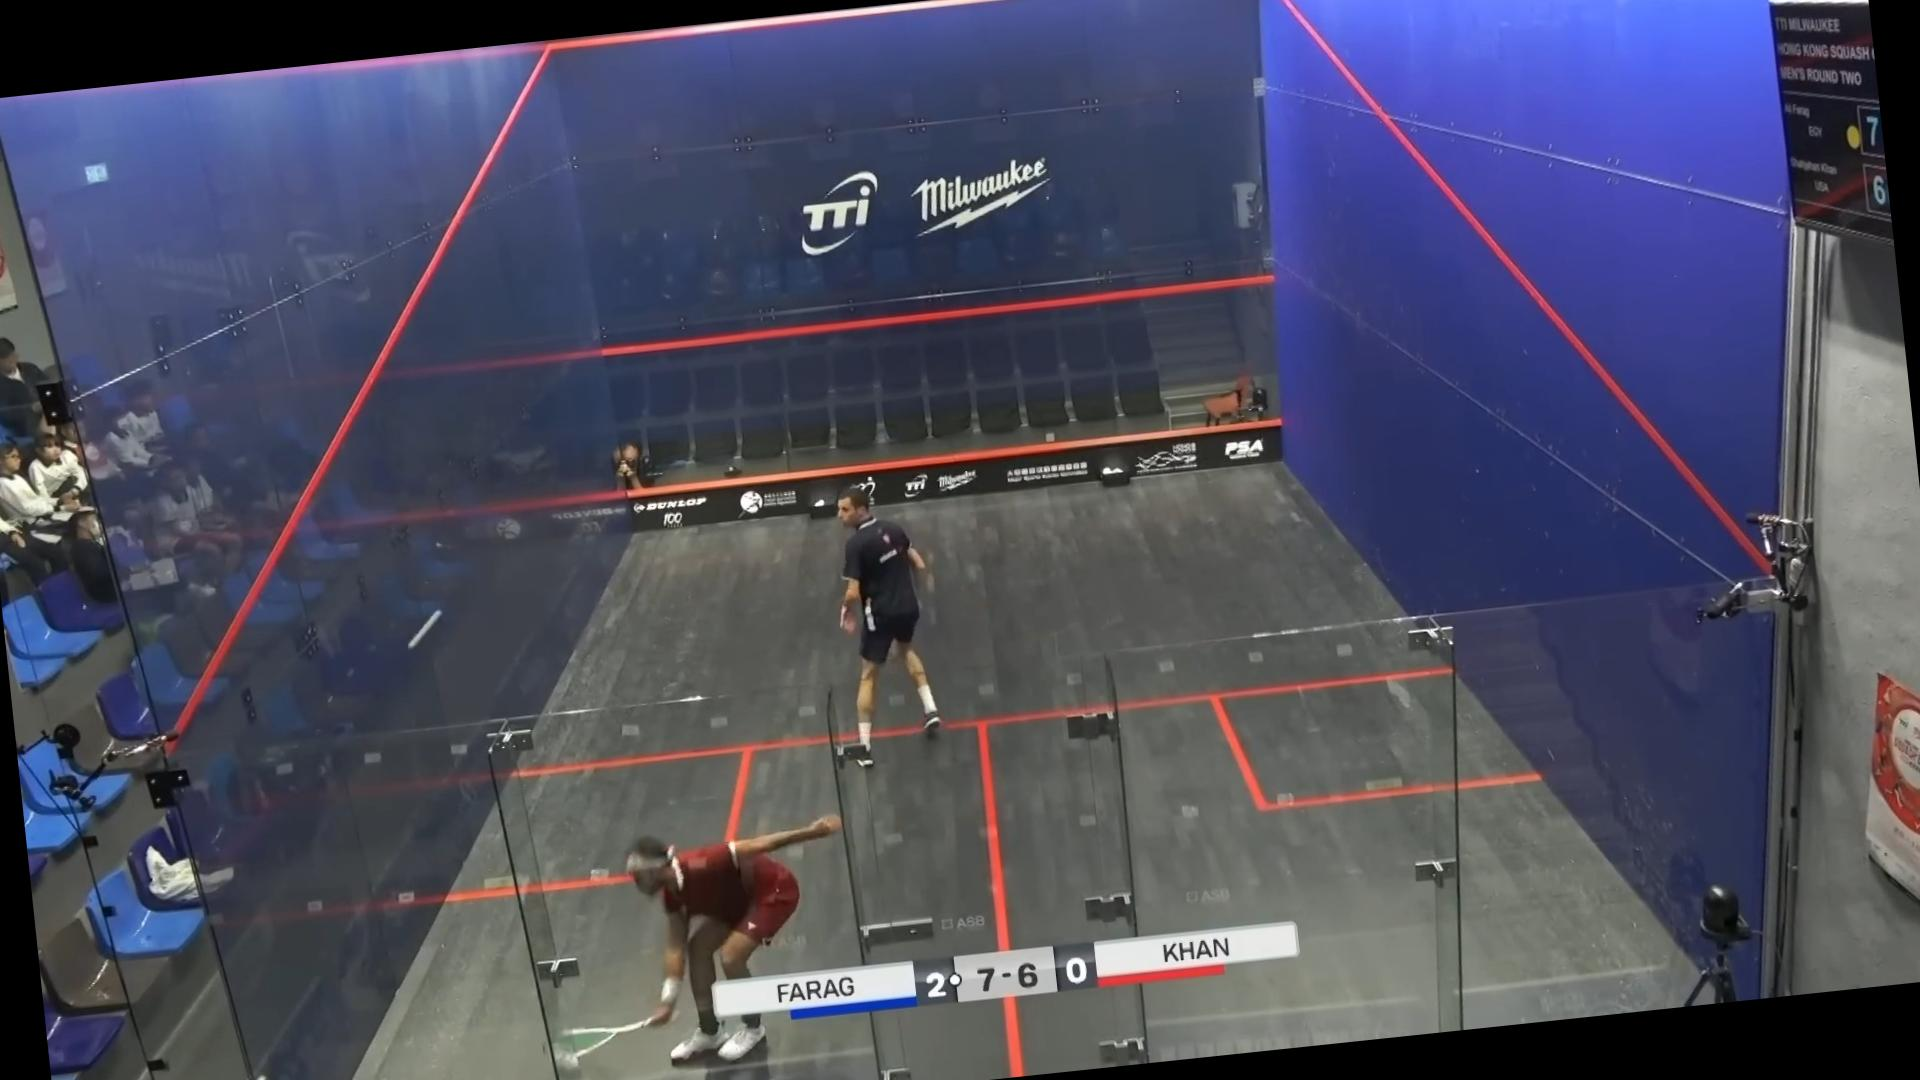Racket: (554, 1015, 651, 1065)
